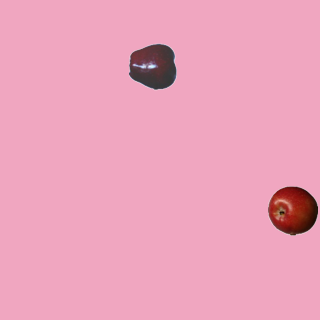Apple Braeburn: (267, 185, 317, 235)
Apple Red Delicious: (128, 41, 178, 91)
